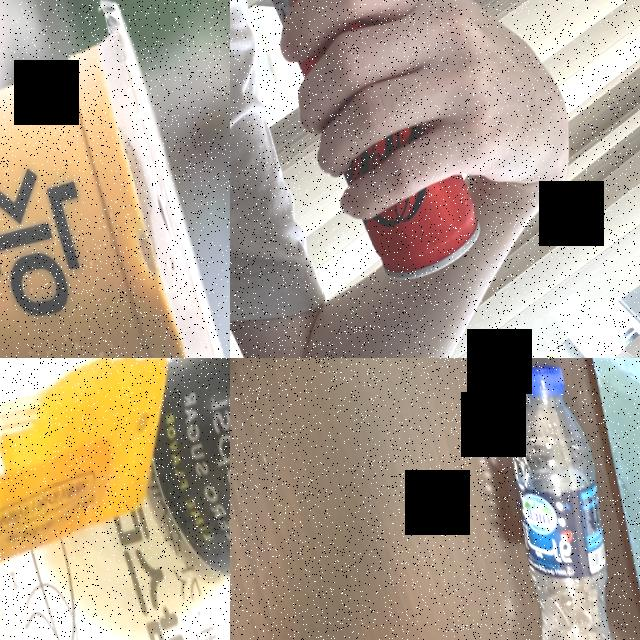bottle: (417, 358, 640, 640)
can: (231, 0, 490, 298), (109, 358, 230, 603)
cup: (0, 0, 230, 358)
